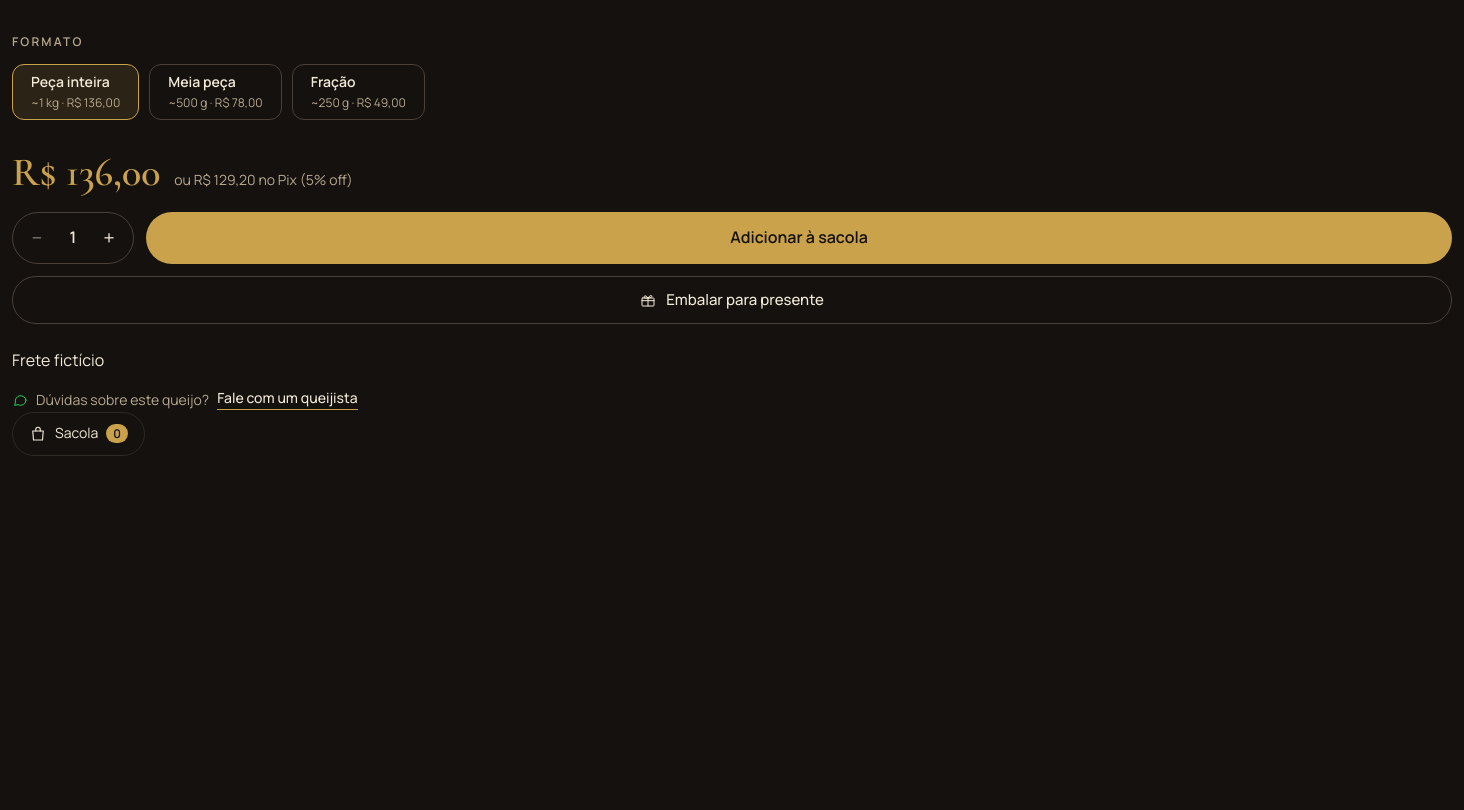
Test: PainelDeCompra › Embalar para presente adiciona o item escolhido e marca o pedido e mostra o texto
The image size is (1464, 810).
Check: the text "Pedido marcado como presente" is not shown
Click the radio button labelled "Meia peça ~500 g · R$ 78,00": (216, 92) [149,64,282,120]
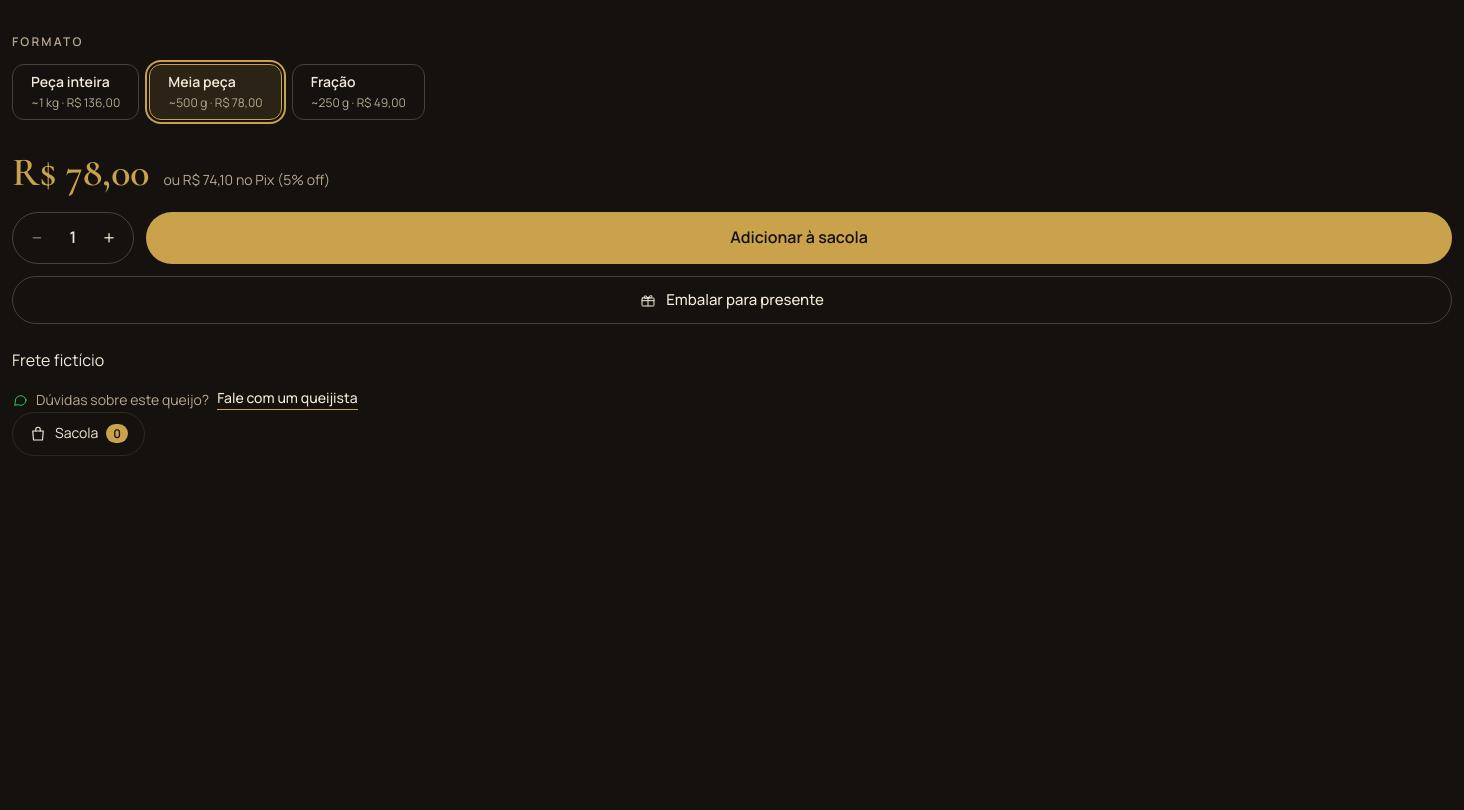
Click the button "Embalar para presente": (732, 300) [12,276,1452,324]
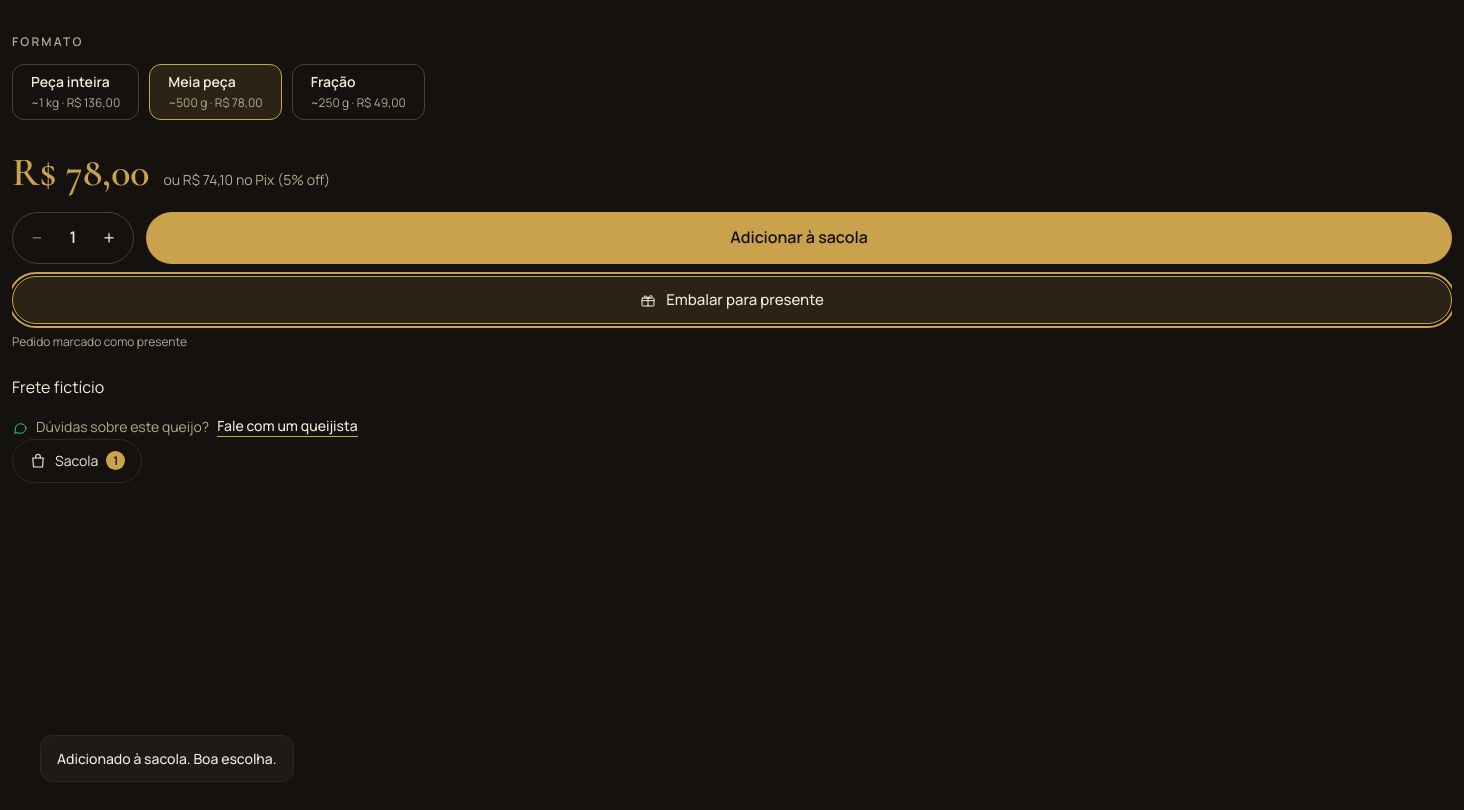
Check: the text "Pedido marcado como presente" is shown, box [12,333,187,350]
